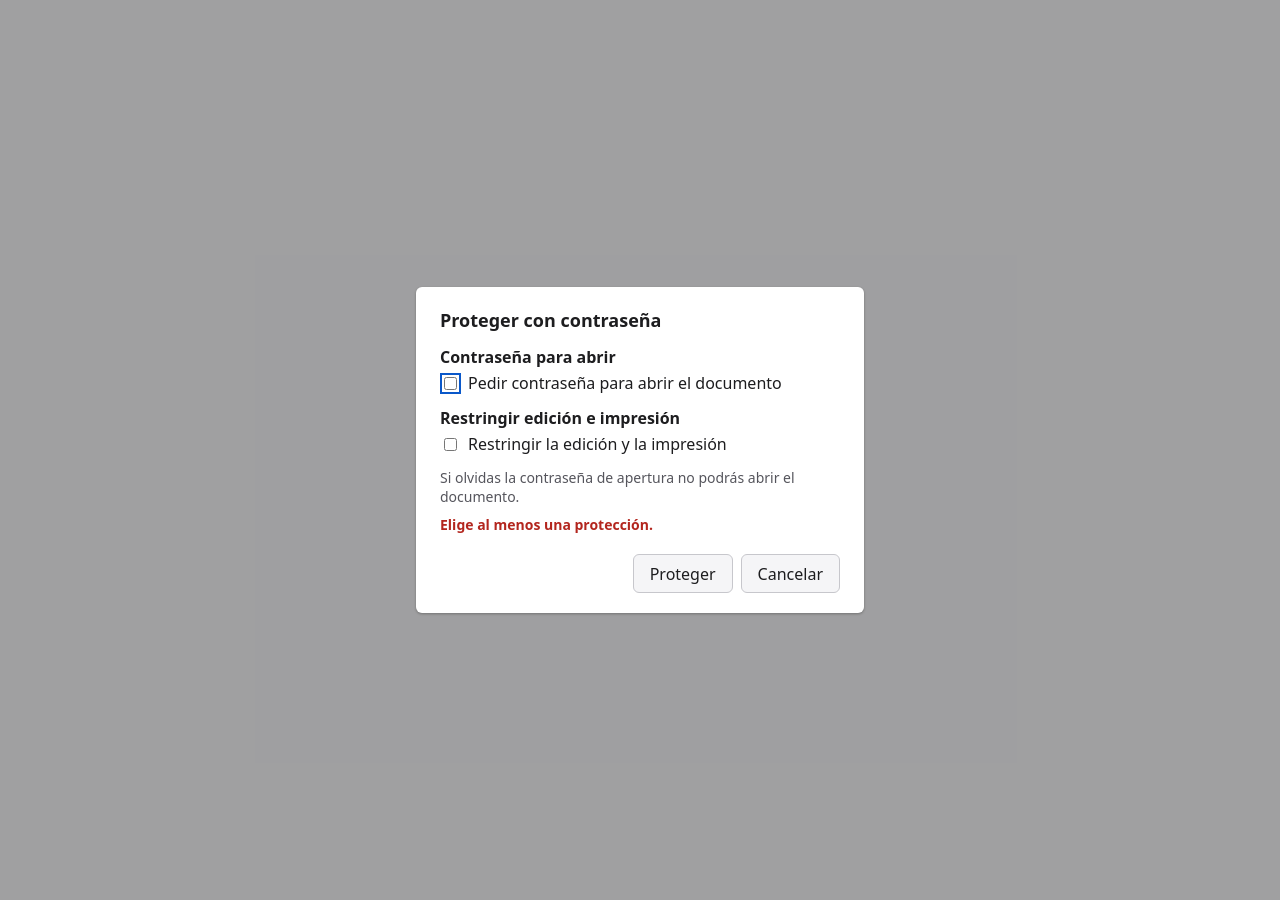
Test case: ProtectDialog (PDF-132) › marcar «Pedir contraseña» muestra los campos y pide escribirla
Step 1. Click the checkbox labelled "Pedir contraseña para abrir el documento" → [450, 384], box [444,377,457,390]
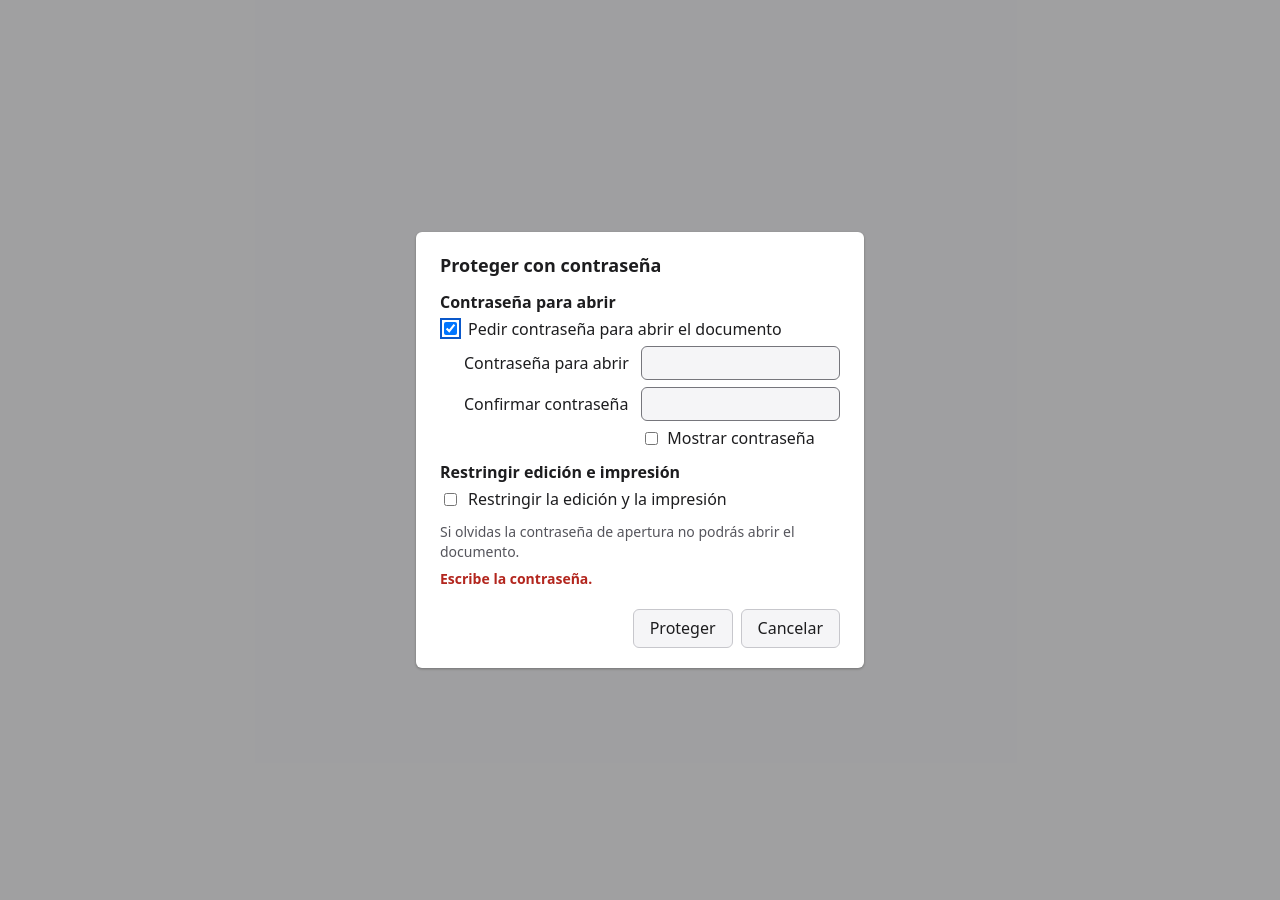
Expected: the button "Proteger" is disabled, [633,609,733,648]
Result: the number of password fields labelled "Confirmar contraseña" is 1 at [641,387,840,421]
Result: the message reads "Escribe la contraseña." at [440,570,592,588]
